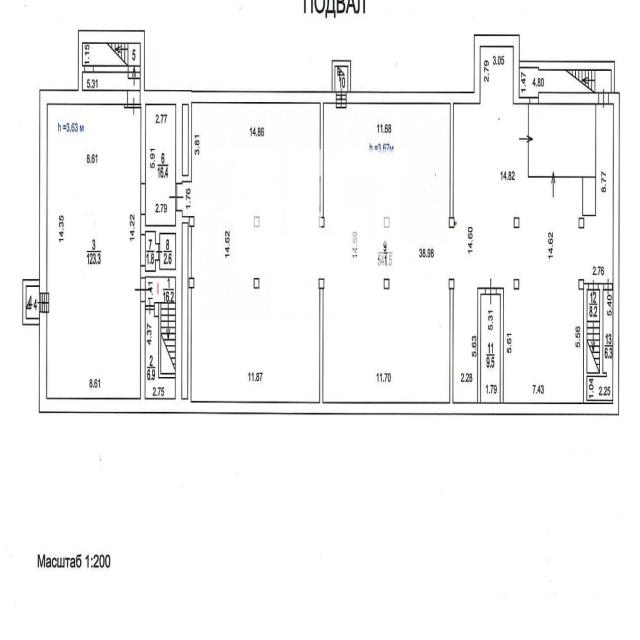Corridors: (146, 105, 175, 226), (587, 290, 613, 399), (145, 311, 175, 398), (481, 295, 500, 402), (182, 224, 188, 397), (146, 278, 175, 305), (83, 73, 128, 89), (160, 234, 175, 269), (183, 105, 188, 175), (146, 232, 155, 270)
Doors: (124, 89, 140, 116), (168, 184, 184, 210), (134, 277, 150, 301), (485, 277, 496, 305), (319, 227, 324, 279), (449, 228, 454, 278), (599, 86, 609, 109), (589, 278, 599, 295), (603, 278, 613, 295), (140, 234, 145, 266), (155, 243, 163, 261), (145, 300, 154, 315), (141, 183, 145, 215), (84, 65, 94, 72), (530, 97, 538, 104)
LBwalls: (39, 91, 620, 416), (39, 88, 128, 293), (145, 90, 336, 185), (346, 33, 520, 104), (78, 30, 145, 43), (538, 91, 599, 104), (578, 279, 584, 290), (189, 216, 195, 227), (579, 217, 584, 229), (514, 279, 519, 291), (449, 278, 454, 290), (384, 278, 389, 290), (384, 217, 389, 229), (319, 216, 324, 228), (319, 277, 324, 289), (254, 216, 259, 228), (254, 277, 259, 289), (189, 277, 194, 289), (514, 217, 519, 228), (449, 217, 454, 228)
Offices: (453, 47, 613, 402), (182, 104, 320, 401), (324, 104, 450, 402), (47, 105, 141, 398)
Stairs: (518, 104, 597, 216), (519, 68, 611, 98), (83, 43, 140, 90), (161, 301, 175, 373), (588, 290, 599, 372), (26, 287, 49, 318), (335, 67, 348, 109)
Walls: (583, 283, 613, 403), (519, 60, 615, 93), (182, 216, 192, 402), (154, 302, 175, 378), (140, 214, 175, 245), (477, 287, 485, 403), (496, 287, 504, 403), (140, 43, 146, 184), (182, 103, 192, 182), (23, 279, 39, 325), (140, 259, 176, 279), (332, 60, 351, 92), (449, 103, 454, 217), (140, 302, 145, 399), (320, 104, 324, 217), (450, 289, 453, 402), (320, 289, 323, 402), (78, 43, 85, 90), (94, 65, 128, 72), (519, 97, 530, 105)
